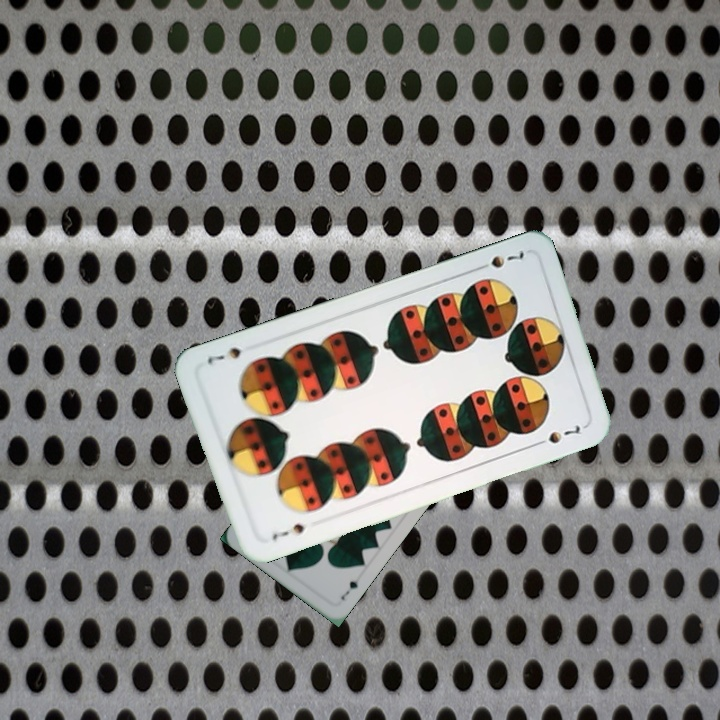G7: (337, 576, 360, 603)
S7: (471, 247, 527, 274), (268, 519, 307, 544)
